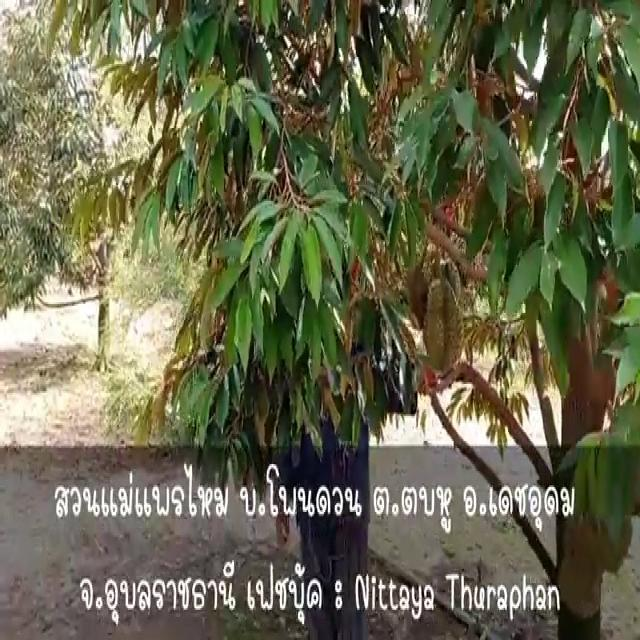durian: (421, 278, 466, 378), (405, 263, 432, 329), (437, 256, 463, 308)
